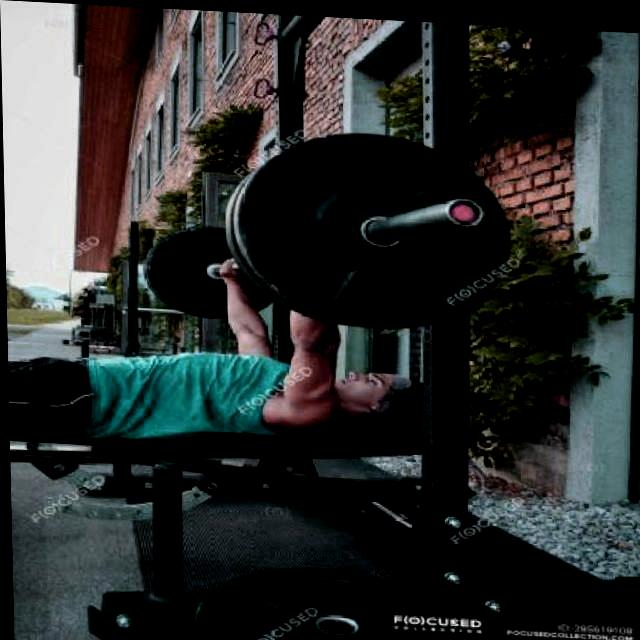barbell: (227, 120, 512, 335)
